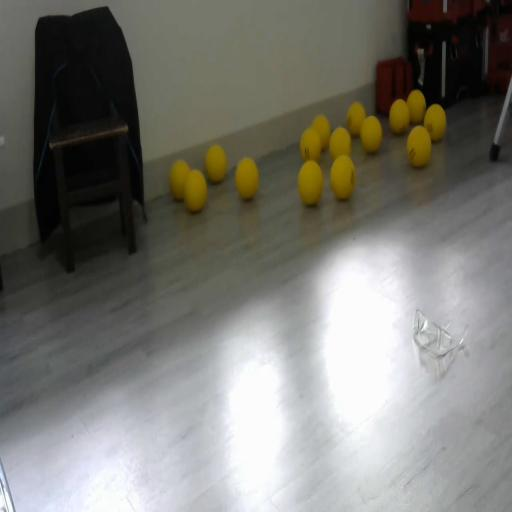FUEL: (296, 159, 324, 206), (329, 154, 355, 200), (234, 155, 260, 201), (406, 124, 432, 168), (423, 102, 447, 142), (169, 158, 191, 201), (360, 114, 383, 153), (205, 144, 227, 184), (328, 126, 352, 161), (389, 98, 410, 135), (346, 100, 366, 138), (406, 89, 427, 124), (312, 114, 330, 151)
